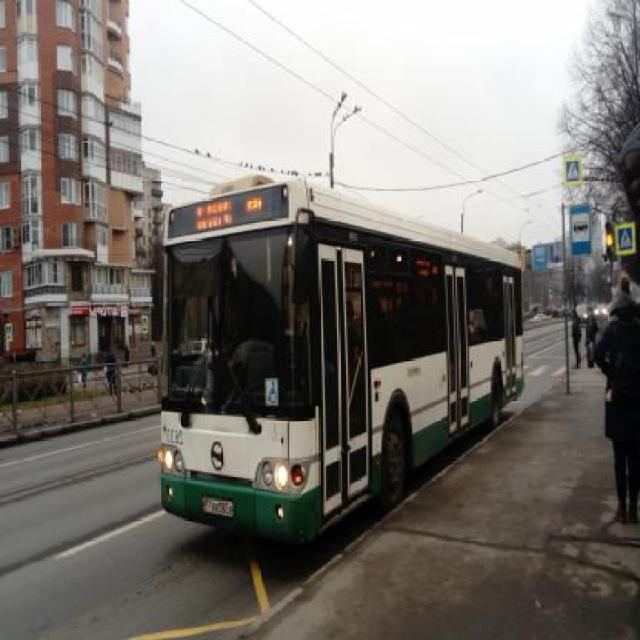bus: (155, 171, 524, 539)
